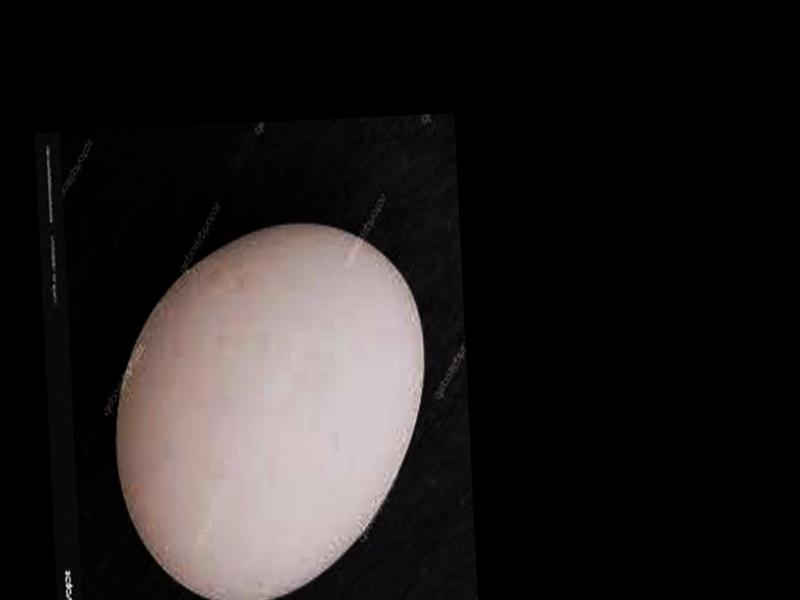Eggs: (104, 217, 433, 600)
